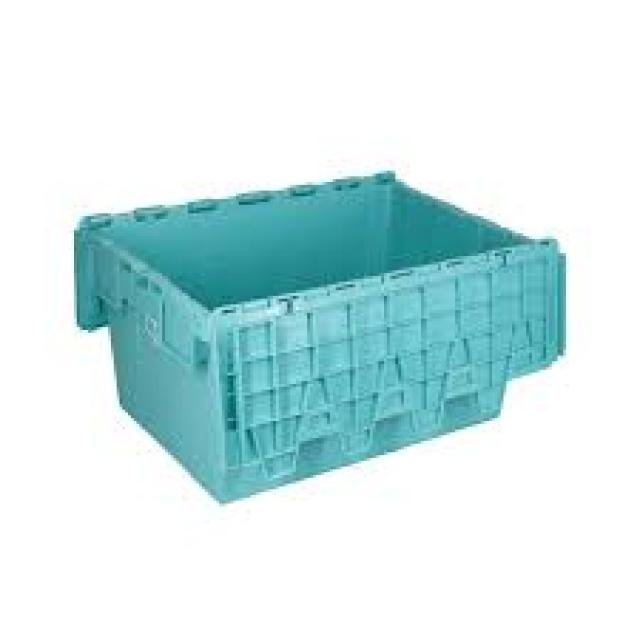basket: (48, 84, 605, 530)
